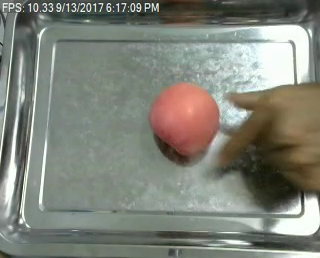Apple: (147, 82, 219, 157)
